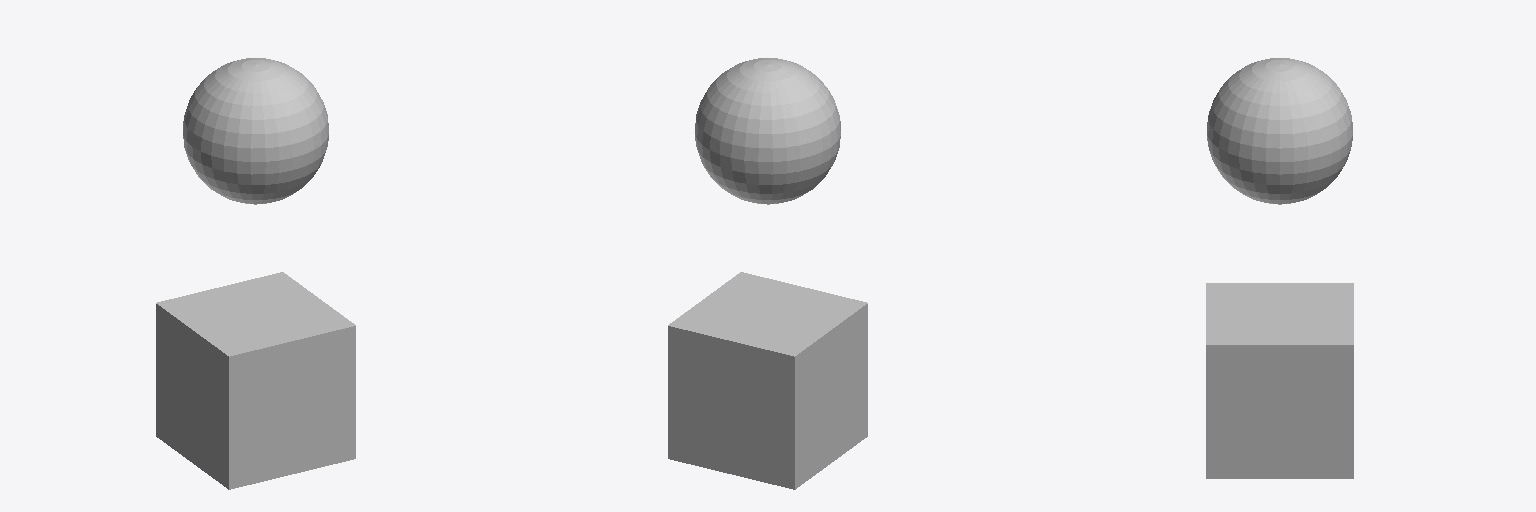
File: ParentTest.obj
The picture shows the model from 3 angles: view 1: azimuth 30°, elevation 25°; view 2: azimuth 150°, elevation 25°; view 3: azimuth 270°, elevation 25°; orthographic projection.
Parts seen in each view (by area): view 1: Cube_Cube.001, Sphere_Sphere.002; view 2: Cube_Cube.001, Sphere_Sphere.002; view 3: Cube_Cube.001, Sphere_Sphere.002.
Part boxes in pixels (left/top/right/bottom): Cube_Cube.001: left=156, top=272, right=355, bottom=489; Sphere_Sphere.002: left=183, top=58, right=328, bottom=204; Cube_Cube.001: left=668, top=272, right=867, bottom=489; Sphere_Sphere.002: left=695, top=58, right=840, bottom=204; Cube_Cube.001: left=1206, top=283, right=1353, bottom=478; Sphere_Sphere.002: left=1207, top=58, right=1352, bottom=204.
Size of the model in its own units: 2 by 5.75 by 2.